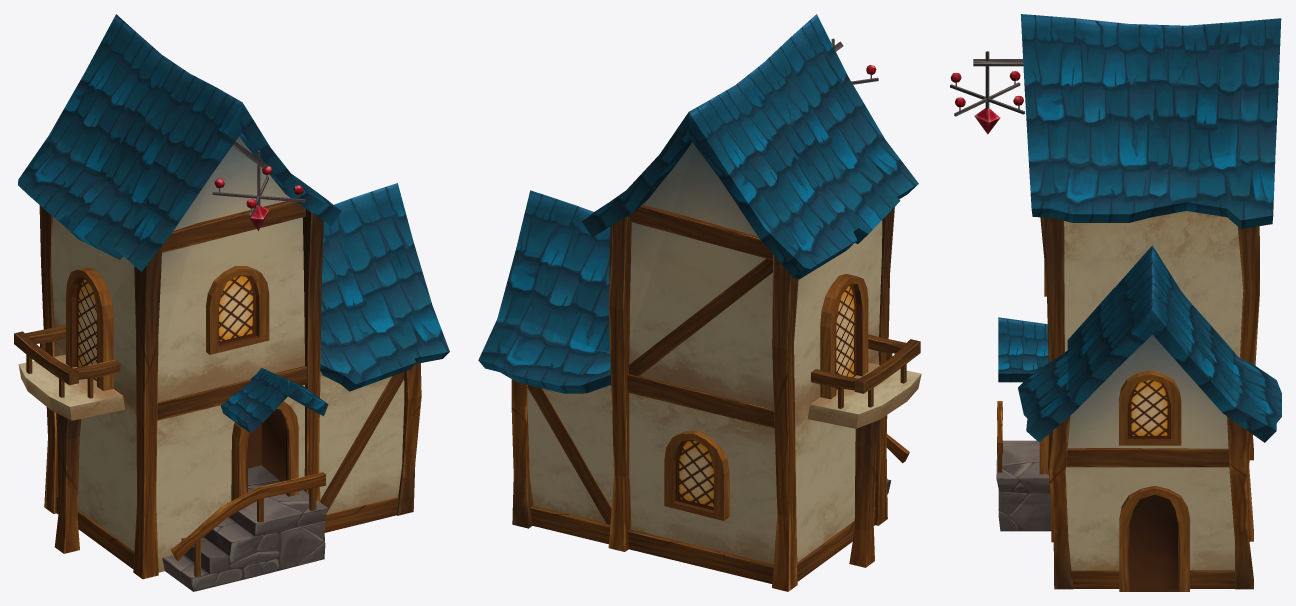
Rendered from Fantasy_House_6.FBX.
3 renders of one model, left to right at view 1: azimuth 30°, elevation 25°; view 2: azimuth 150°, elevation 25°; view 3: azimuth 270°, elevation 25°, orthographic. The views are drawn at different scales.
Visible parts, largest first — view 1: Fantasy_House_6; view 2: Fantasy_House_6; view 3: Fantasy_House_6.
Part boxes in pixels (left/top/right/bottom): Fantasy_House_6: left=14, top=14, right=449, bottom=591; Fantasy_House_6: left=478, top=14, right=921, bottom=591; Fantasy_House_6: left=950, top=14, right=1281, bottom=591.
Bounding box in the file's own units: 741 × 914 × 571.
Materials: 1 (1 with a texture image).
